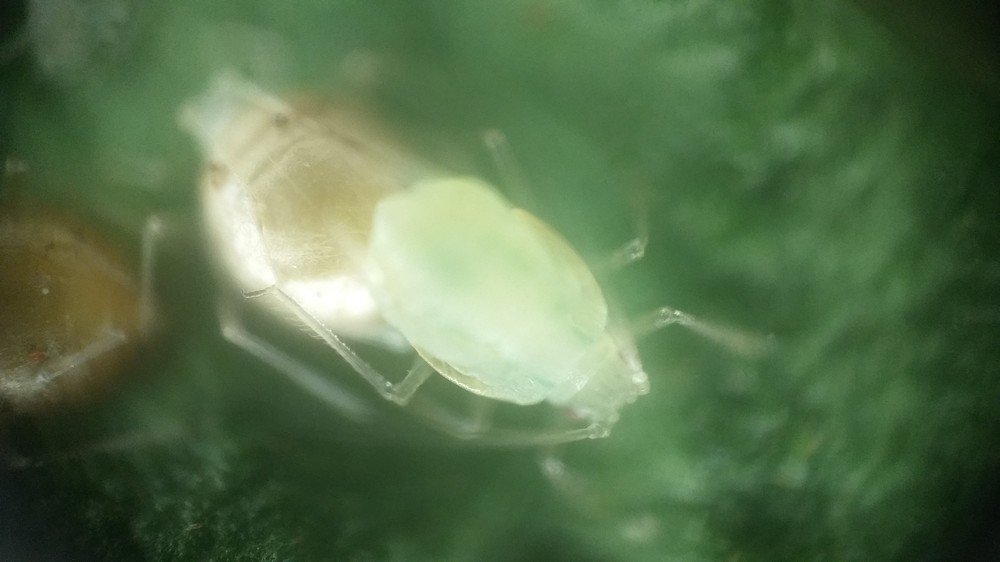Pulgon: (326, 123, 787, 495), (161, 54, 480, 415)
